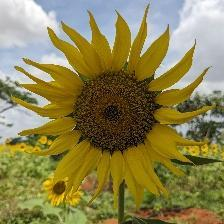sunflower: (14, 5, 215, 209)
